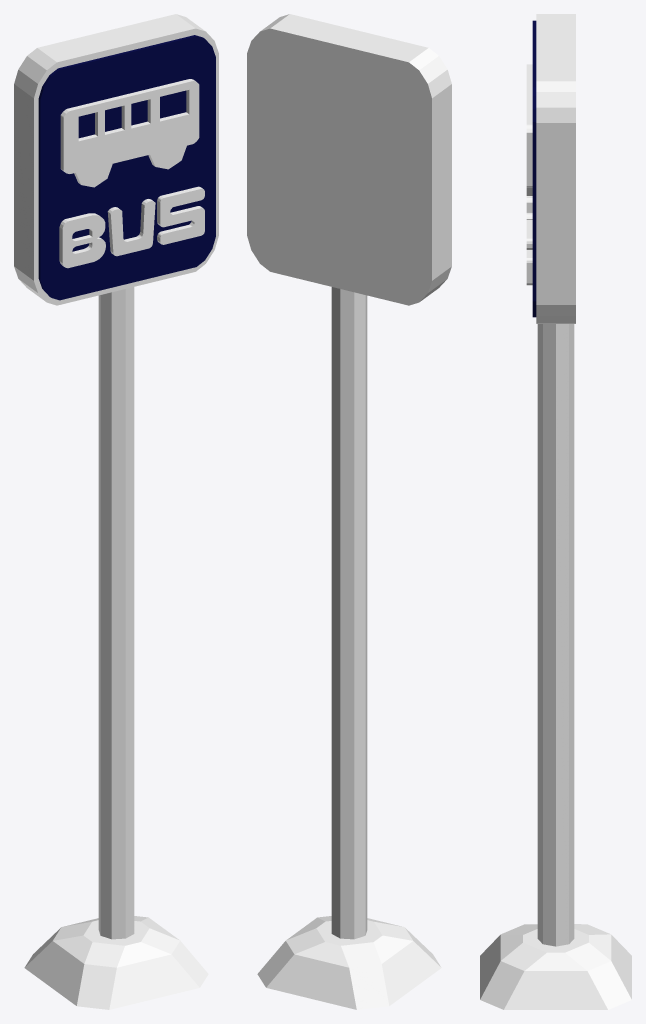
The model's file is Bussign.fbx.
3 renders of one model, left to right at view 1: azimuth 30°, elevation 25°; view 2: azimuth 150°, elevation 25°; view 3: azimuth 270°, elevation 25°, orthographic.
Parts seen in each view (by area): view 1: khobnaisign, sao, sign, thansao, LogoBuss, Buss; view 2: sign, sao, thansao; view 3: sao, sign, thansao, khobnaisign, LogoBuss, Buss.
Part boxes in pixels (x1=…): khobnaisign: x1=38, y1=35, x2=215, y2=300; sao: x1=98, y1=287, x2=134, y2=939; sign: x1=14, y1=14, x2=218, y2=305; thansao: x1=24, y1=916, x2=208, y2=1009; LogoBuss: x1=60, y1=79, x2=199, y2=187; Buss: x1=59, y1=186, x2=204, y2=268; sign: x1=247, y1=14, x2=451, y2=305; sao: x1=331, y1=287, x2=367, y2=939; thansao: x1=257, y1=916, x2=441, y2=1009; sao: x1=537, y1=324, x2=574, y2=946; sign: x1=536, y1=14, x2=575, y2=323; thansao: x1=480, y1=924, x2=631, y2=1009; khobnaisign: x1=532, y1=20, x2=536, y2=317; LogoBuss: x1=526, y1=64, x2=532, y2=195; Buss: x1=526, y1=196, x2=532, y2=285.
Size of the model in its own units: 394 by 1897 by 281.
